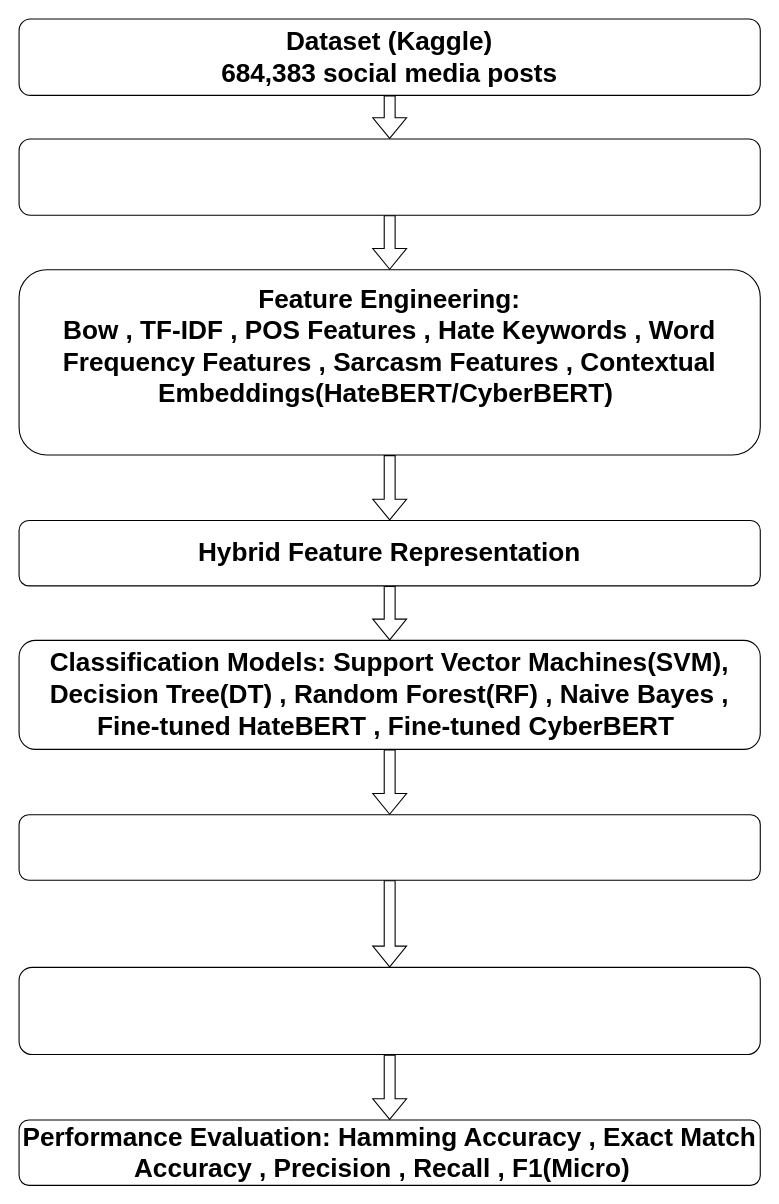
Image size: 779x1204. Some labels were removed from this diagram. The shapes that lost their labels are listed below. From the top down, each one's centre as x and y in pixels, then its label:
At point 389,176: "Text Preprocessing".
At point 389,847: "Final Output".
At point 389,1010: "Explainability: LIME(Local Interpretable Model-agnostic Explanations)".
